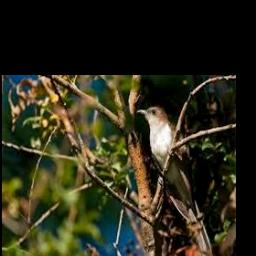Cuckoo: (137, 106, 212, 255)
